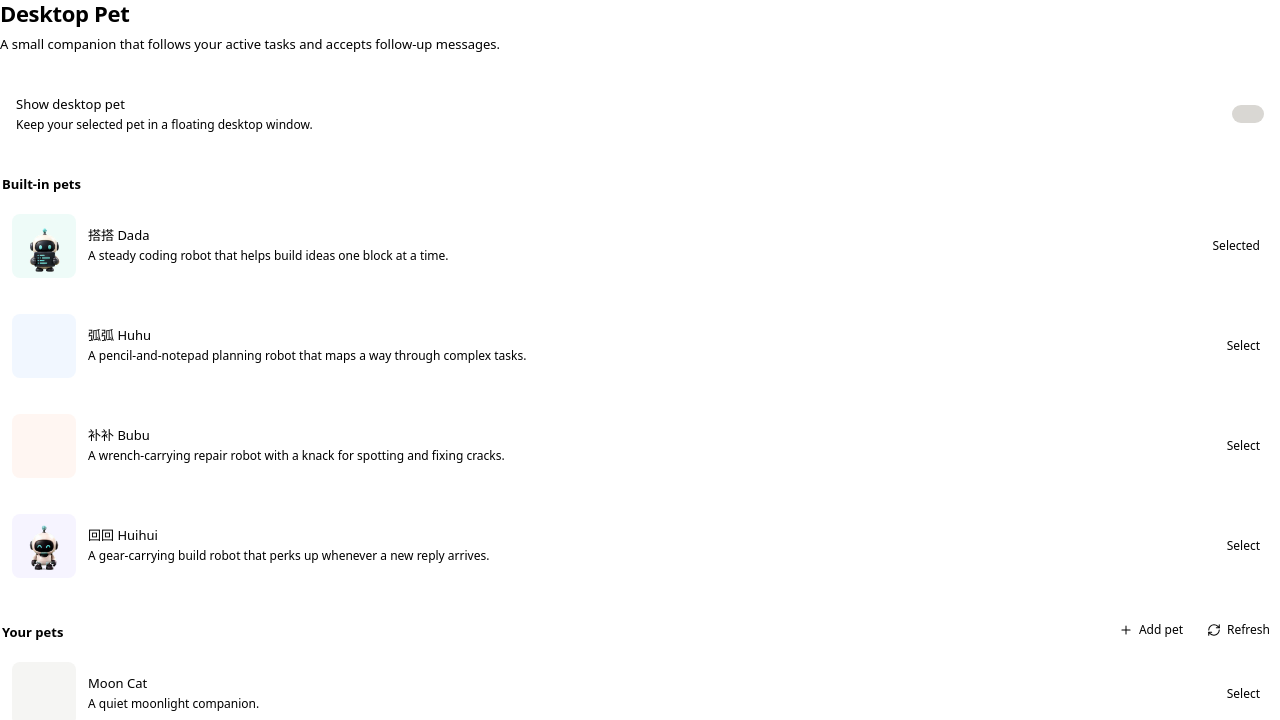
Test: PetSettings › offers three usable creation paths with no disabled dead end
The image size is (1280, 720).
Click the button "Add pet": (1151, 630) [1111,618,1191,642]
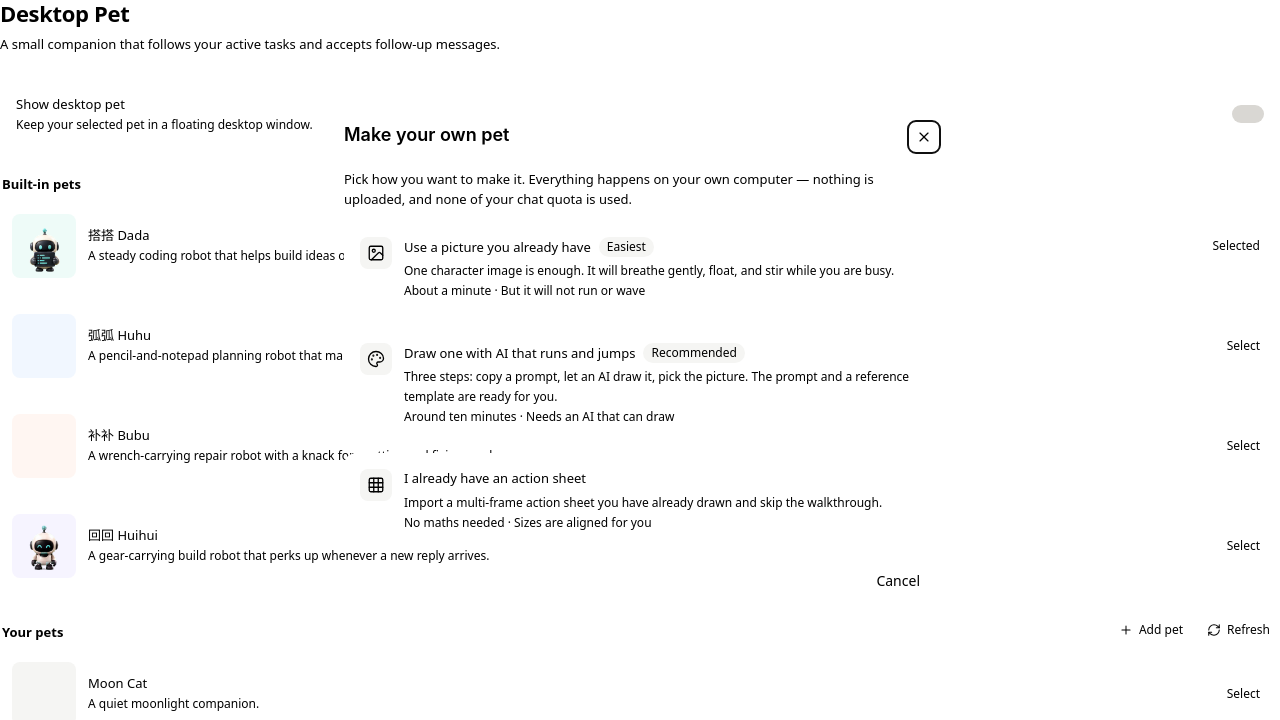
Check: the button "Use a picture you already have" is enabled, box [344,221,936,315]
Check: the button "Draw one with AI that runs and jumps" is enabled, box [344,327,936,441]
Check: the button "I already have an action sheet" is enabled, box [344,453,936,547]
